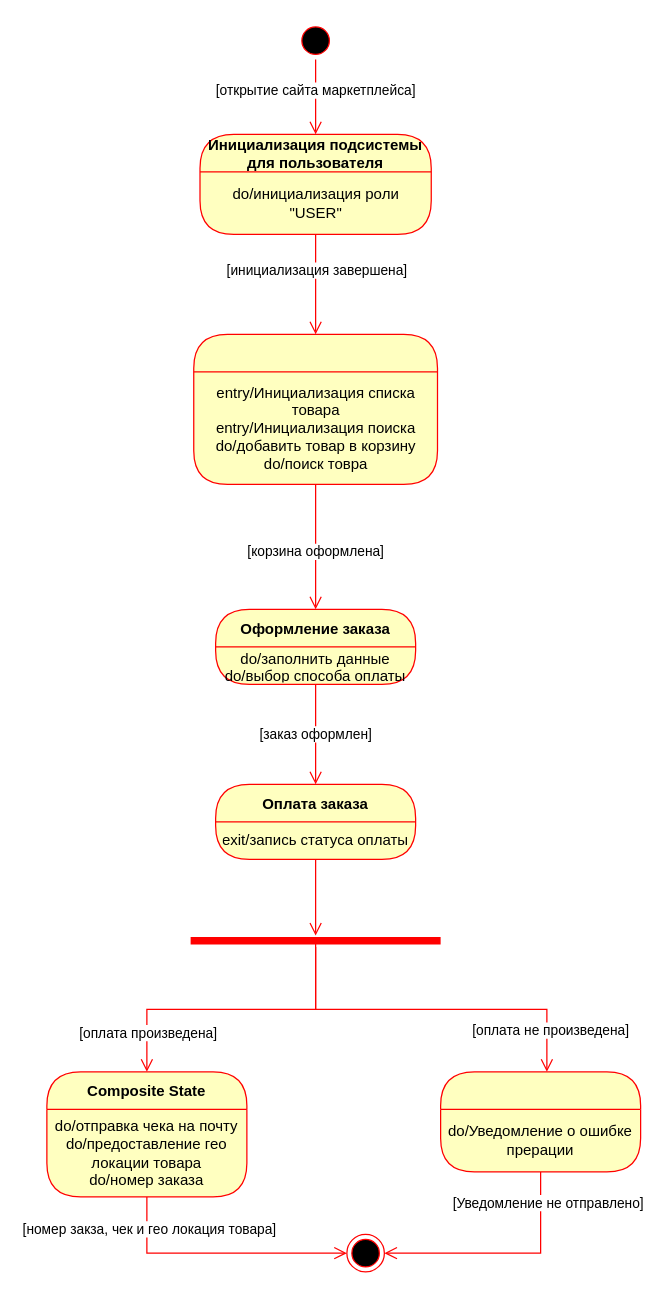
Some shapes in this 664 by 1294 pixel diagram are drawn without their labels. The box of each missing label's shape, as (x1, y1, x2, y2) in pixels:
Открыт: (192, 333, 438, 484)
Отмена заказа: (439, 1071, 641, 1172)
